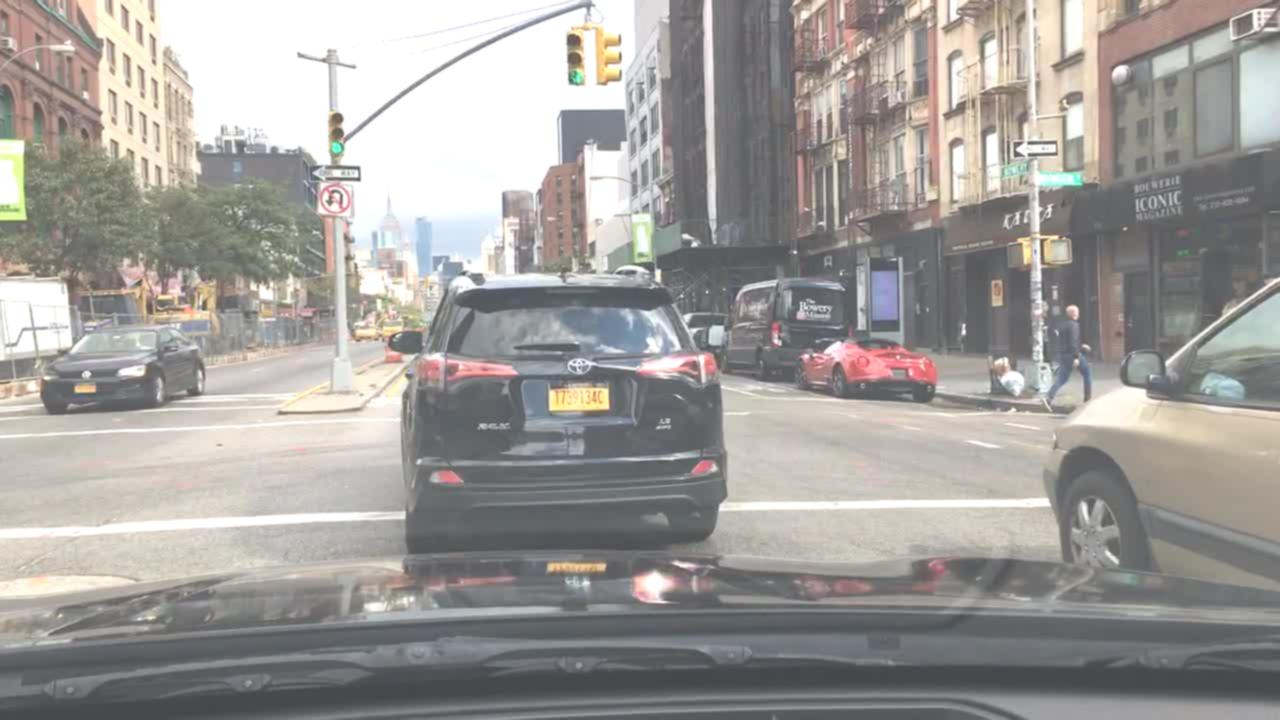Toyota: (559, 351, 593, 375)
Volkswagen: (79, 367, 94, 383)
